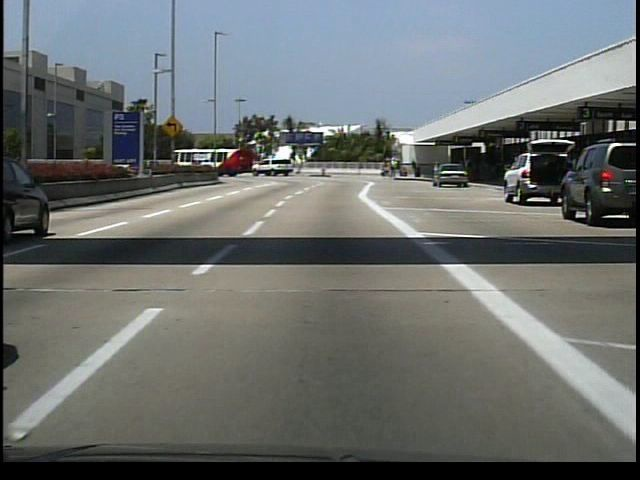person: (462, 153, 478, 183), (388, 154, 398, 179)
